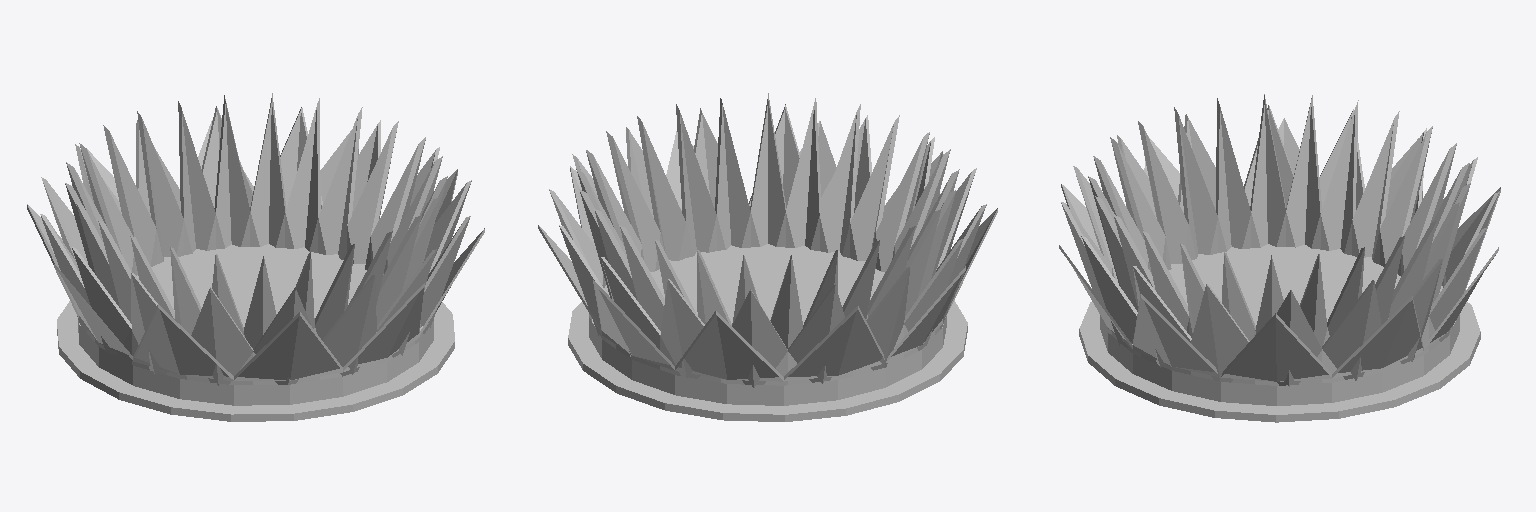
File: portal_abrir_000048.obj
3 renders of one model, left to right at view 1: azimuth 30°, elevation 25°; view 2: azimuth 150°, elevation 25°; view 3: azimuth 270°, elevation 25°, orthographic.
Parts seen in each view (by area): view 1: Cylinder.001, pCylinder1, Cylinder; view 2: Cylinder.001, pCylinder1, Cylinder; view 3: Cylinder.001, pCylinder1, Cylinder.
Part boxes in pixels (x1,y1,x2,y2): Cylinder.001: (65, 93, 447, 349); pCylinder1: (27, 120, 484, 421); Cylinder: (40, 106, 471, 385); Cylinder.001: (576, 93, 959, 348); pCylinder1: (538, 121, 997, 421); Cylinder: (549, 104, 986, 387); Cylinder.001: (1088, 94, 1470, 347); pCylinder1: (1059, 118, 1500, 422); Cylinder: (1061, 105, 1498, 386).
Size of the model in its own units: 7.35 by 2.87 by 7.03.